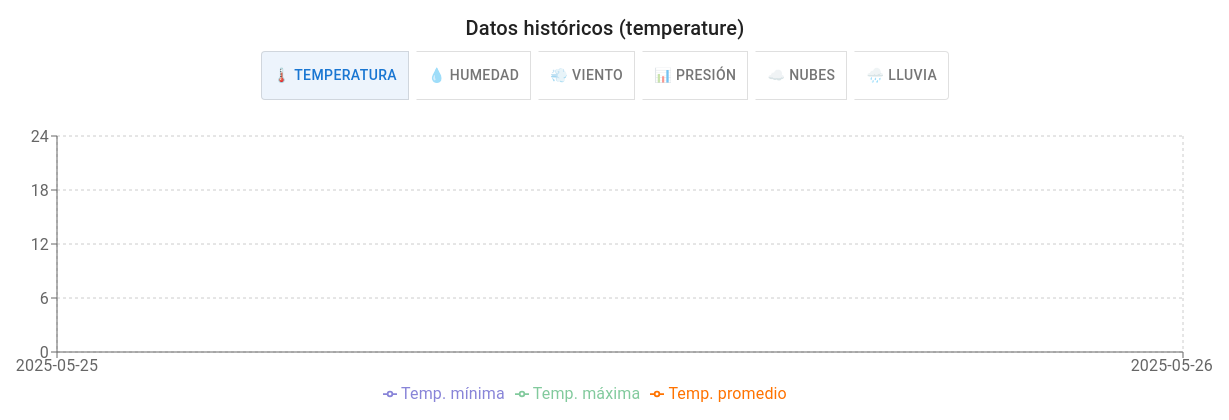
Scenario: WeatherChart › cambia a Lluvia al hacer click en el botón
The image size is (1229, 420).
Click the button "🌧️ Lluvia" at (902, 75), box [854,51,949,100]
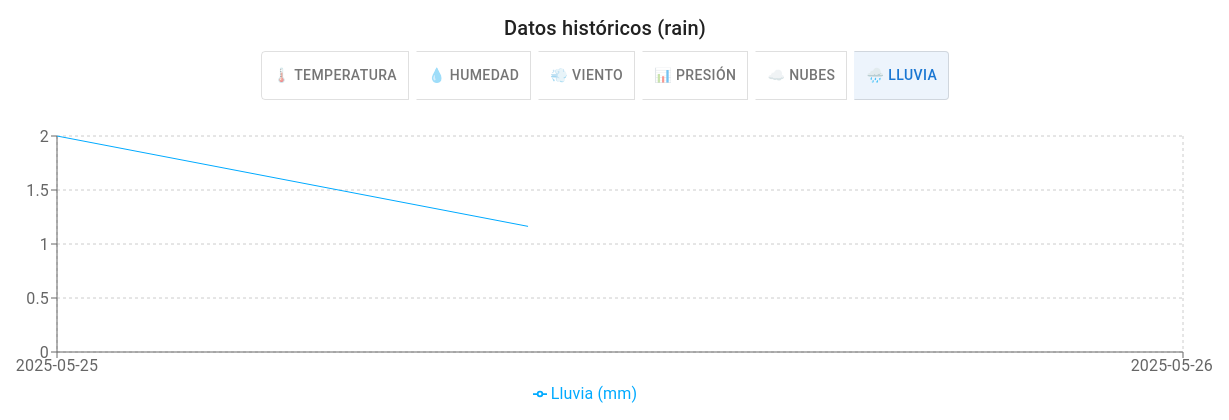
Check: the heading "Datos históricos (rain)" is shown, box [504,16,706,40]
